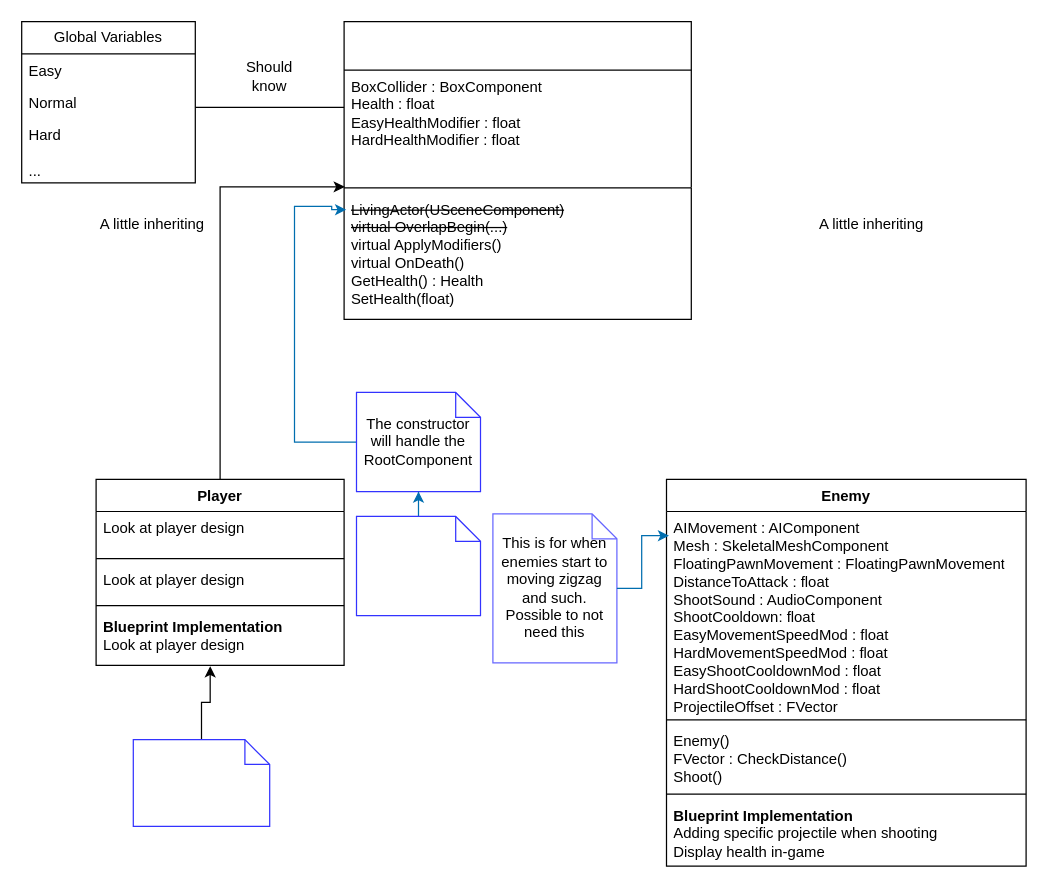
Image size: 1048x892. Some labels were removed from this diagram. Each missing label, with the box of its shape:
<<Abstract>> LivingActor: (343, 20, 691, 319)
Change of plans, constructor is handled in derived classes: (355, 515, 480, 616)
Player is in place of Castle now: (132, 738, 270, 826)
